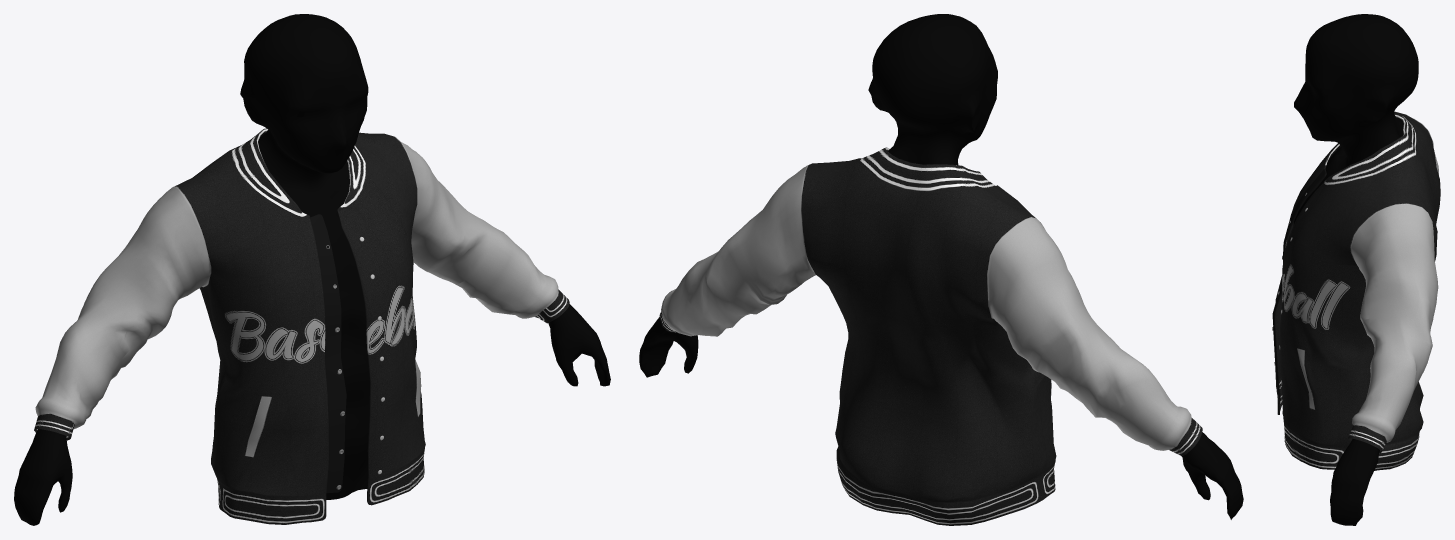
Rendered from basketball_jacket.glb.
The picture shows the model from 3 angles, left to right: view 1: azimuth 30°, elevation 25°; view 2: azimuth 150°, elevation 25°; view 3: azimuth 270°, elevation 25°; orthographic projection. The views are drawn at different scales.
Parts seen in each view (by area): view 1: Object_4, Object_2, Object_3; view 2: Object_4, Object_2; view 3: Object_4, Object_2, Object_3.
Part boxes in pixels (<box>): Object_4: <box>34,128,569,524</box>; Object_2: <box>14,14,610,525</box>; Object_3: <box>294,92,368,241</box>; Object_4: <box>659,147,1202,525</box>; Object_2: <box>639,14,1243,519</box>; Object_4: <box>1272,111,1440,470</box>; Object_2: <box>1293,14,1418,525</box>; Object_3: <box>1312,88,1323,194</box>.
Size of the model in its own units: 134 by 103 by 37.44.
2 materials, 1 textured.
